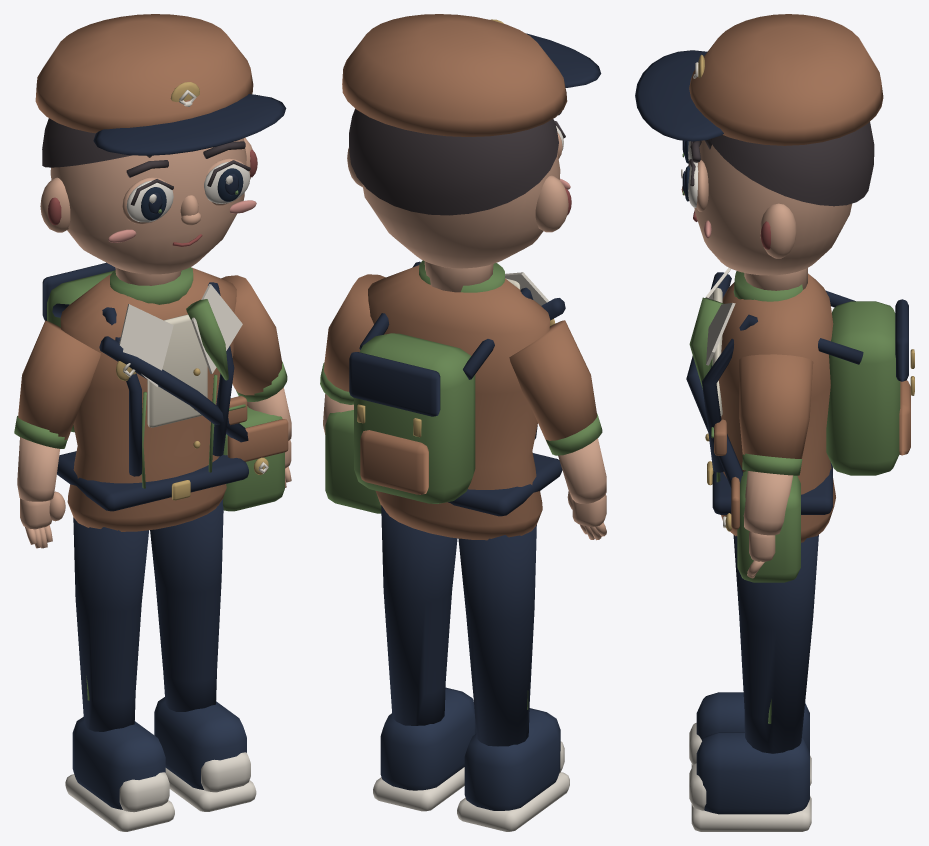
The model's file is npc_farmtown_trainer_2.glb.
3 views of the same model, side by side, from view 1: azimuth 30°, elevation 25°; view 2: azimuth 150°, elevation 25°; view 3: azimuth 270°, elevation 25° (orthographic). The views are drawn at different scales.
Visible parts, largest first — view 1: figure.035; view 2: figure.035; view 3: figure.035.
Part boxes in pixels (box(x1,y1,x2,y2)): figure.035: box(14, 14, 291, 831); figure.035: box(320, 14, 606, 831); figure.035: box(635, 14, 914, 831).
Size of the model in its own units: 0.555 by 1.48 by 0.4931.
